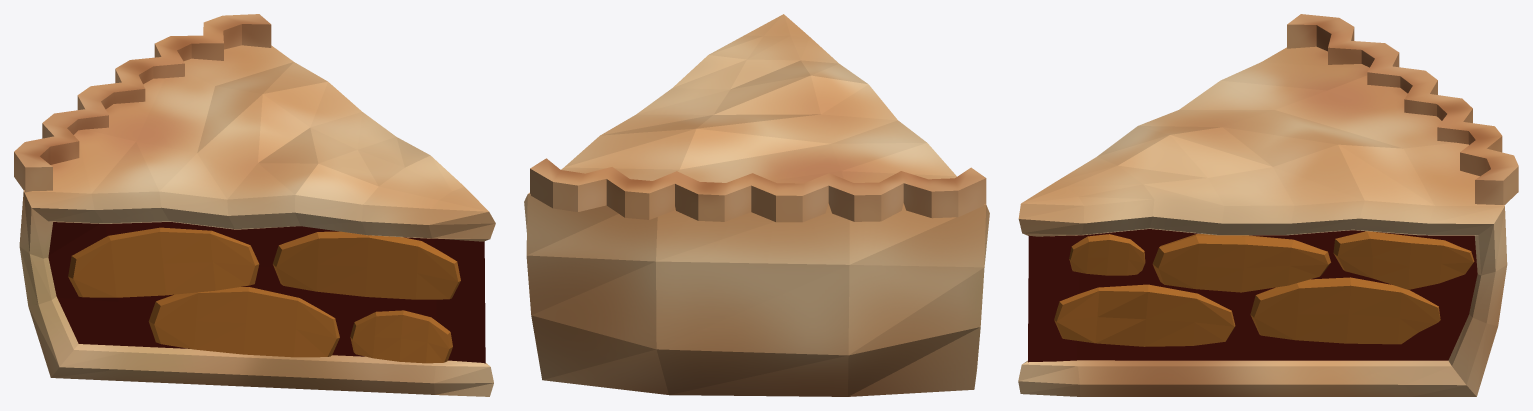
The model's file is applePie.obj.
3 views of the same model, side by side, from view 1: azimuth 30°, elevation 25°; view 2: azimuth 150°, elevation 25°; view 3: azimuth 270°, elevation 25° (orthographic). The views are drawn at different scales.
Bounding box in the file's own units: 2.27 × 1.32 × 2.78.
3 materials, 1 textured.
